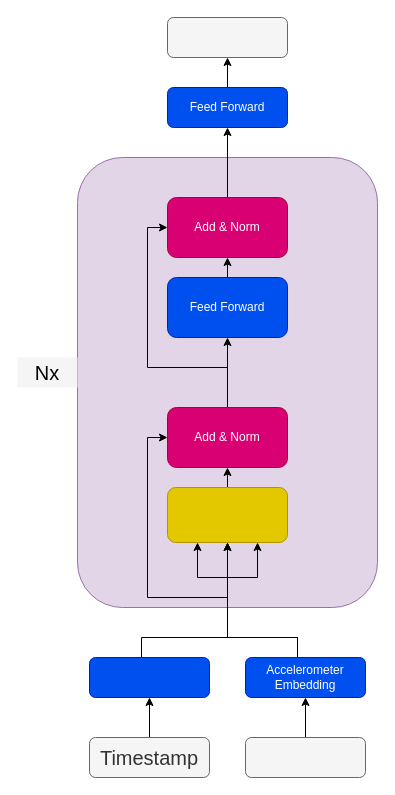
Image size: 395x795. Some labels were removed from this diagram. Each missing label, with the centre of its shape:
"Input" goes at point (305, 757).
"Output" goes at point (227, 37).
"Sparse Multi-Head Attention" goes at point (227, 514).
"Timestamp Embedding" goes at point (149, 677).
